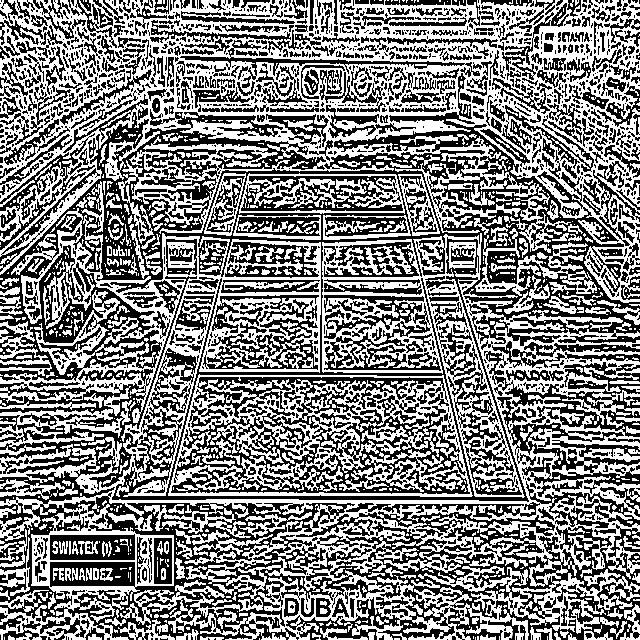left side: (113, 171, 248, 498), (397, 172, 527, 499)
player: (102, 404, 144, 500), (314, 114, 336, 172)
